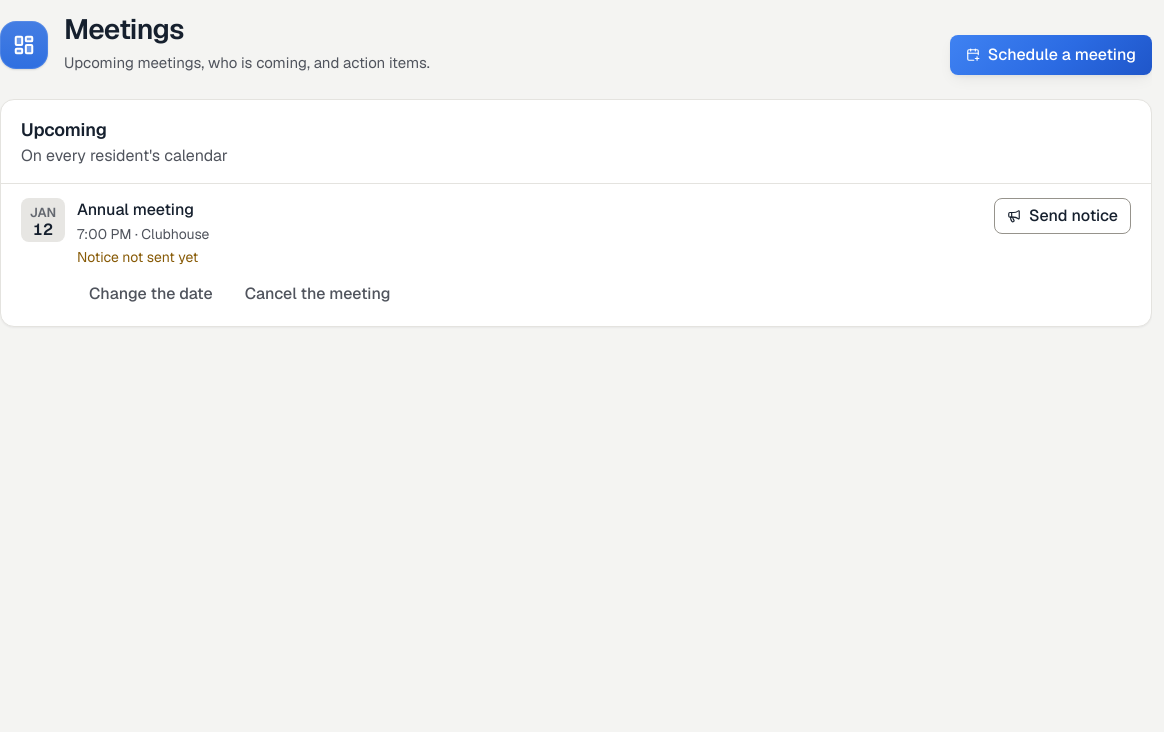
Test: the meetings page › says what happened straight away in the demo
This screenshot has width=1164, height=732.
Click the button "Send notice" at (1062, 216), box x1=994 y1=198 x2=1131 y2=234
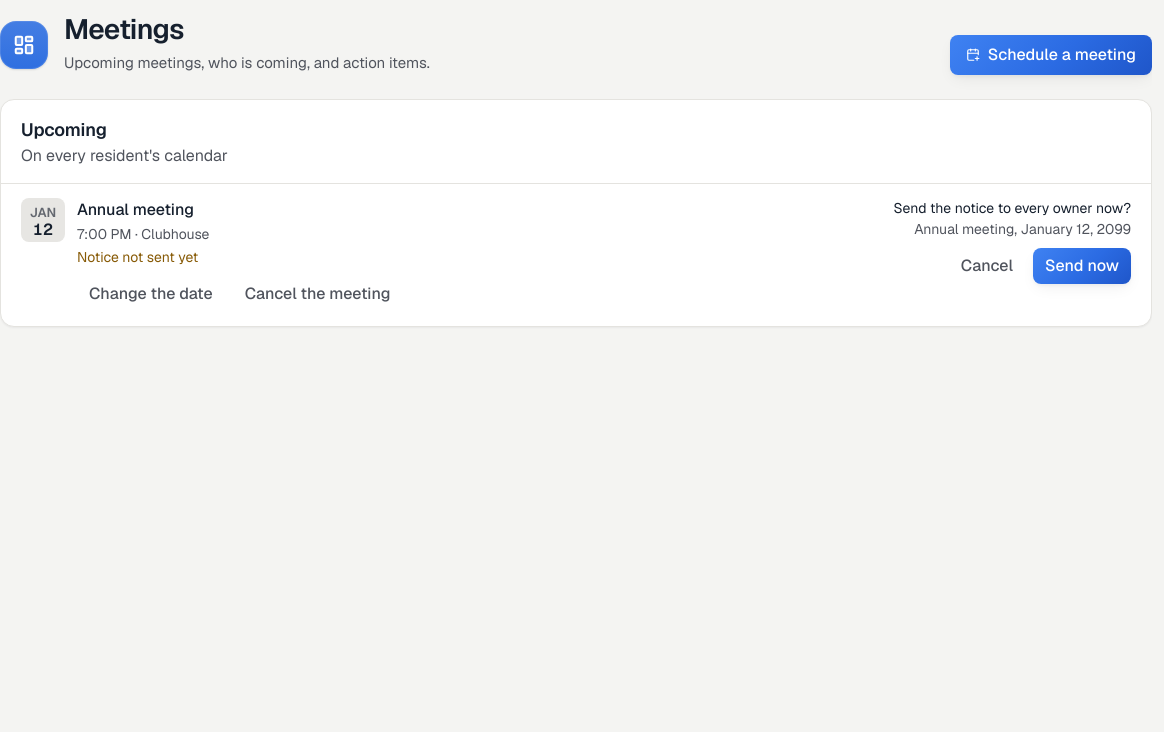
Click the button "Send now" at (1082, 266), box x1=1033 y1=248 x2=1131 y2=284
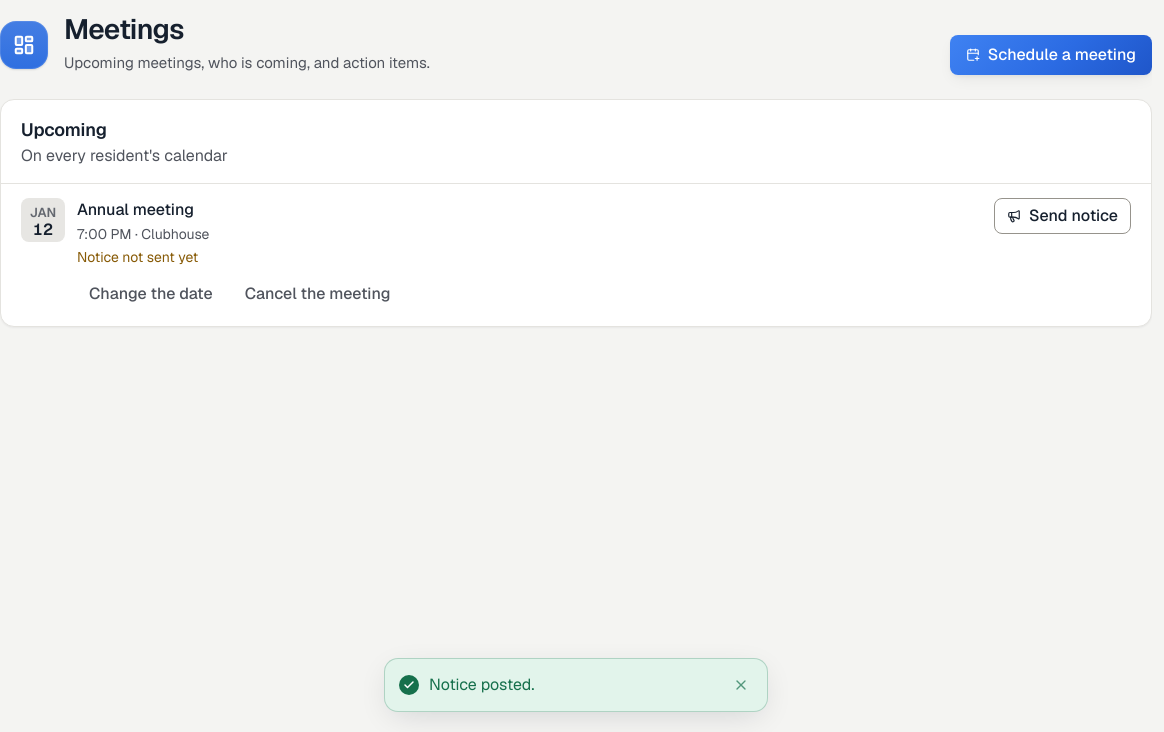
Check: the text "Notice posted." is shown, box x1=429 y1=674 x2=534 y2=695
